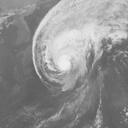cyclone: (42, 35, 86, 89)
